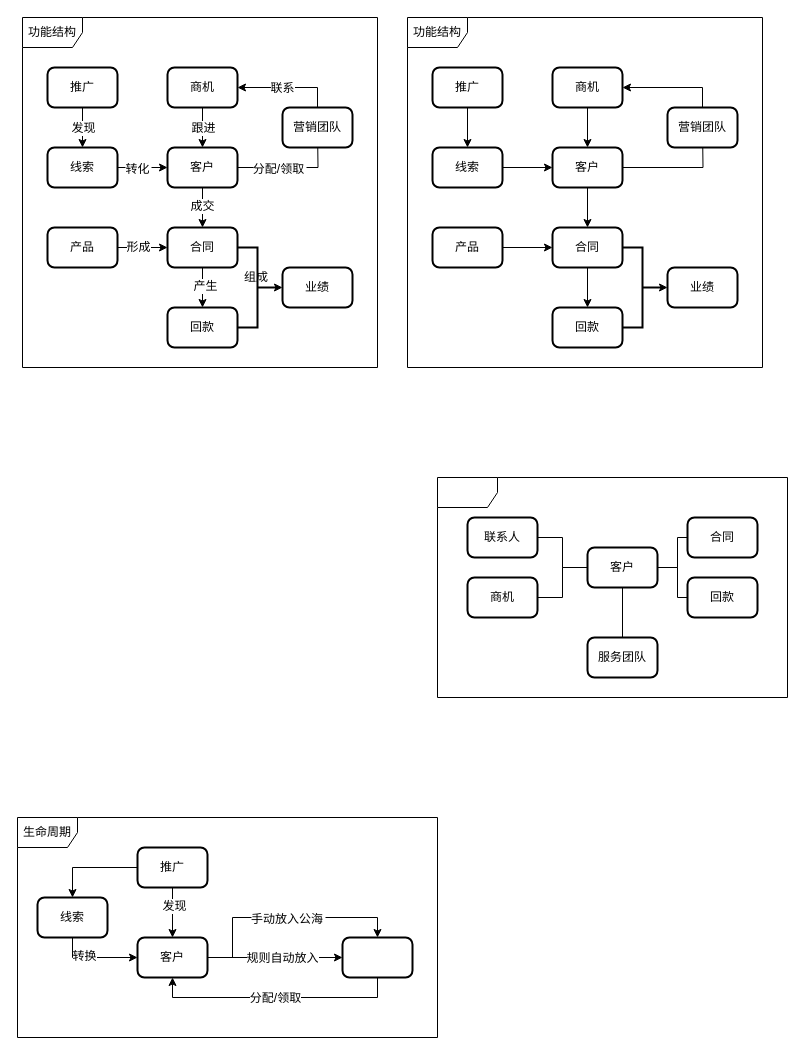
Some shapes in this 805 by 1055 pixel diagram are drawn without their labels. Here are the shapes that lost their labels. From the top down, the centre of each, then its label:
the point at 612,587: 数据组成
the point at 377,957: 公海
